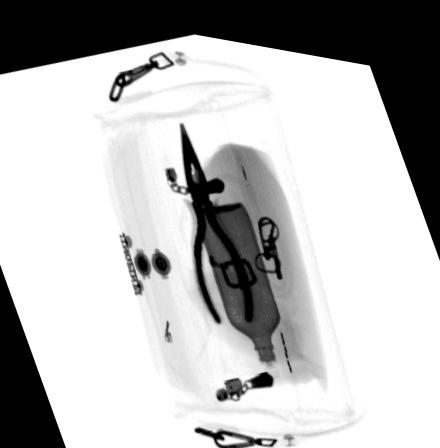Pliers: (178, 113, 256, 316)
